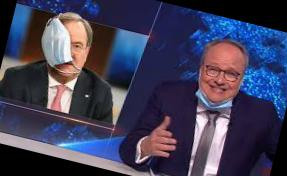mask_weared_incorrect: (38, 20, 94, 81), (195, 51, 246, 117)
